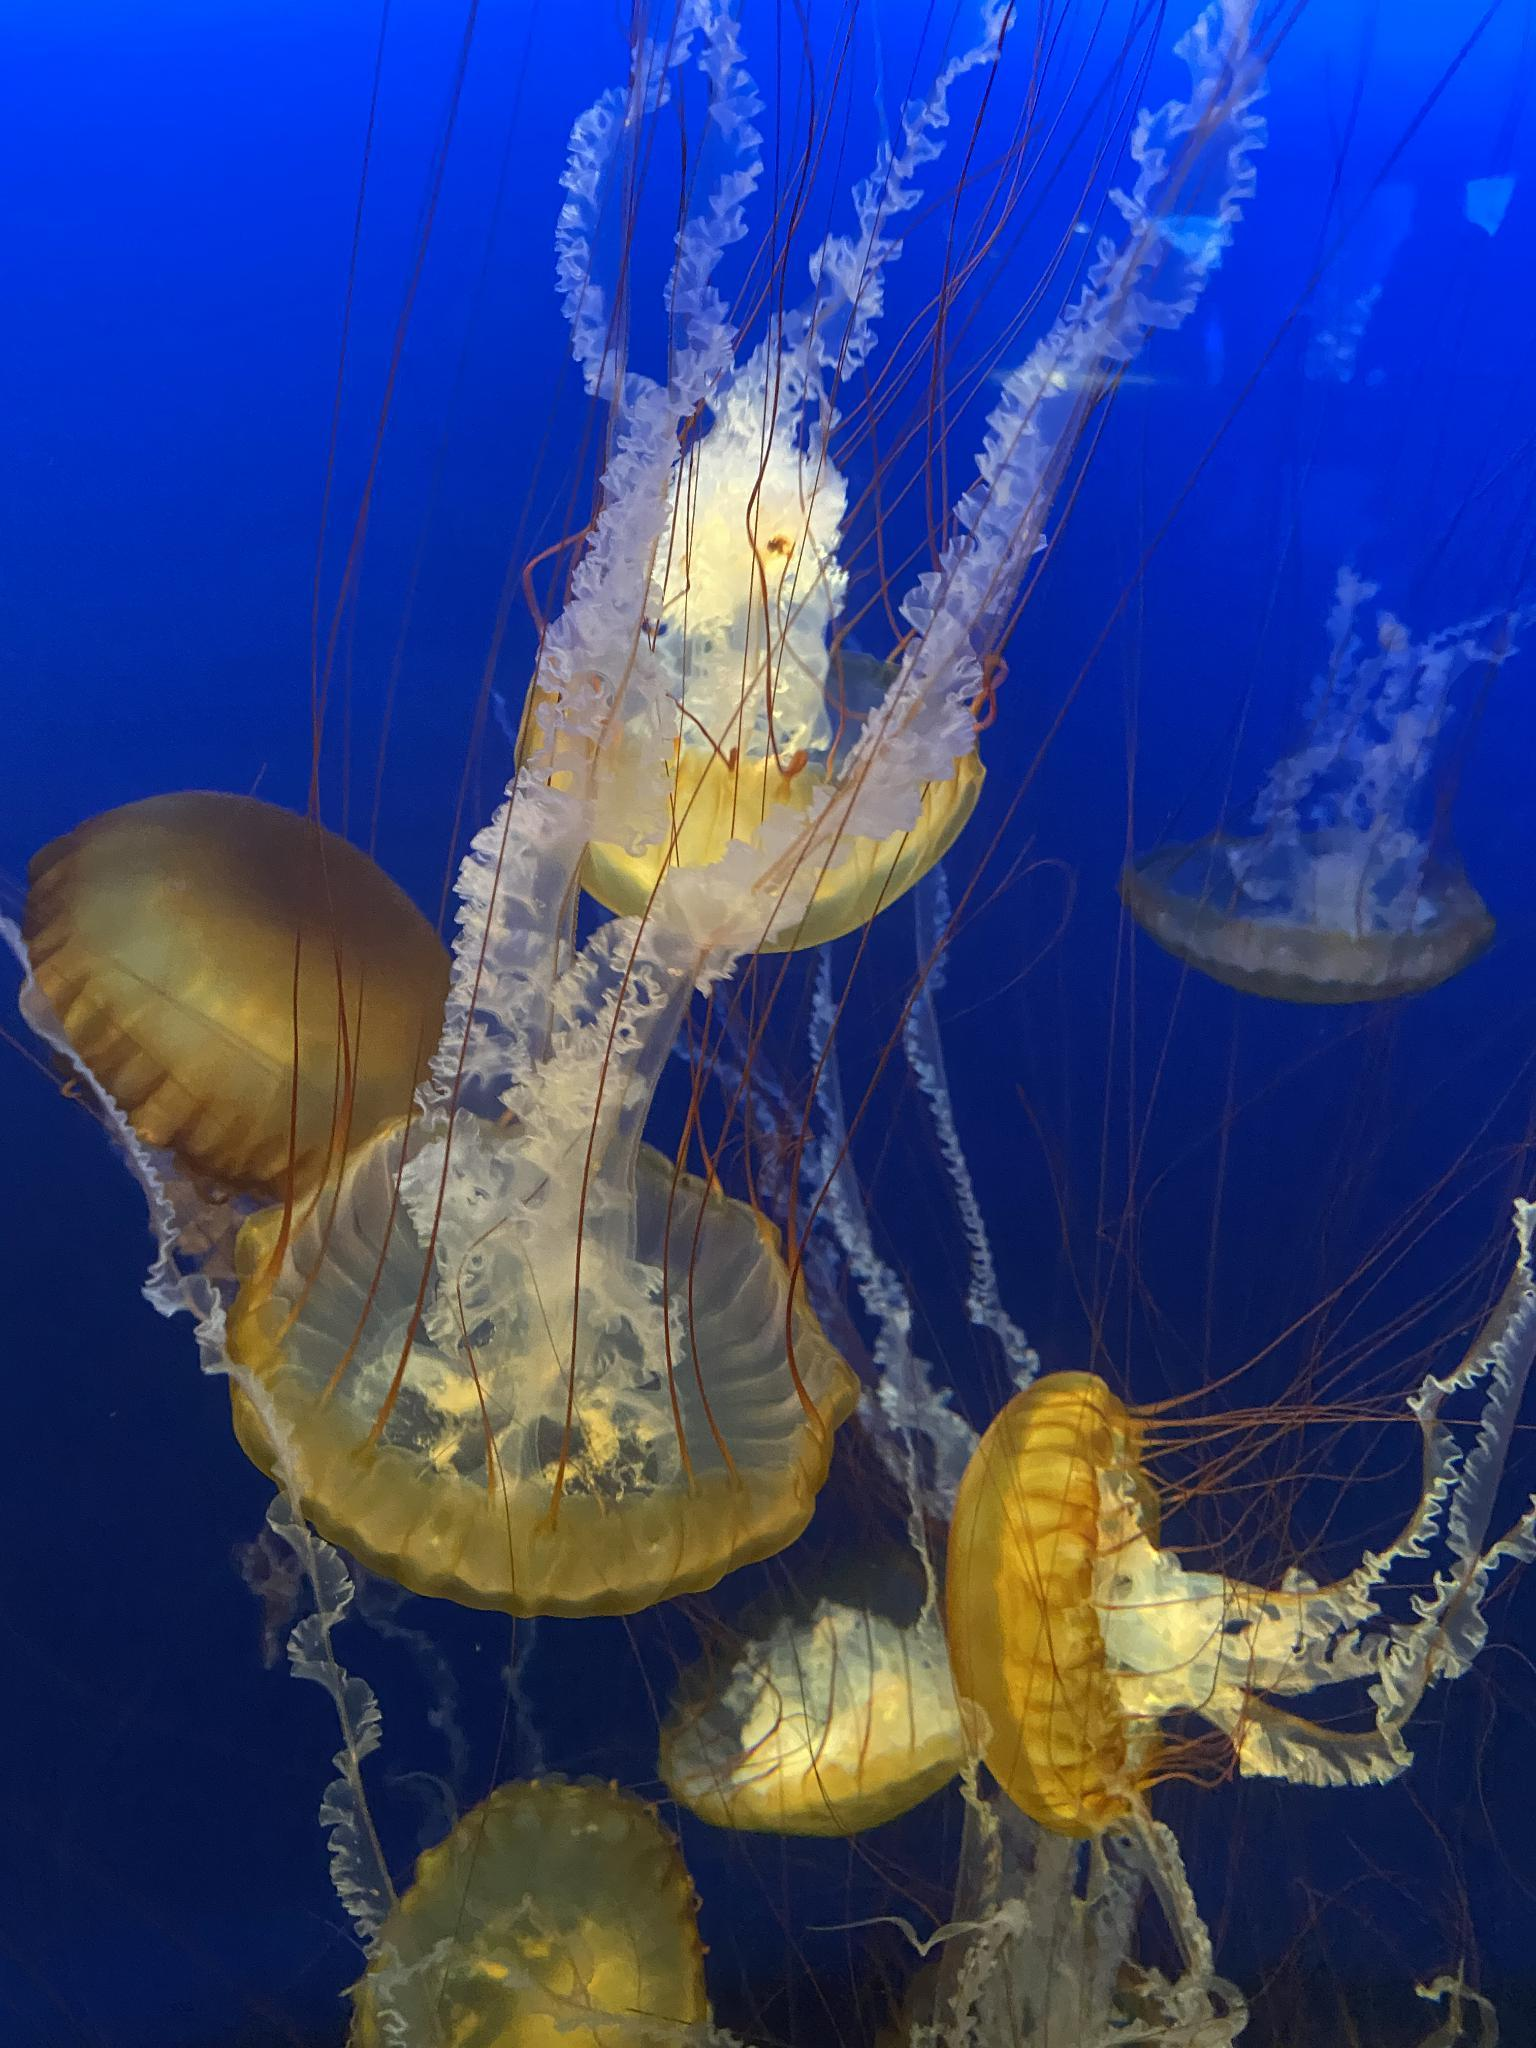jellyfish: (200, 1080, 870, 1596), (516, 447, 975, 943), (40, 798, 452, 1253), (1112, 581, 1509, 998), (941, 1385, 1225, 1832), (345, 1788, 776, 2006), (653, 1625, 986, 1821)
